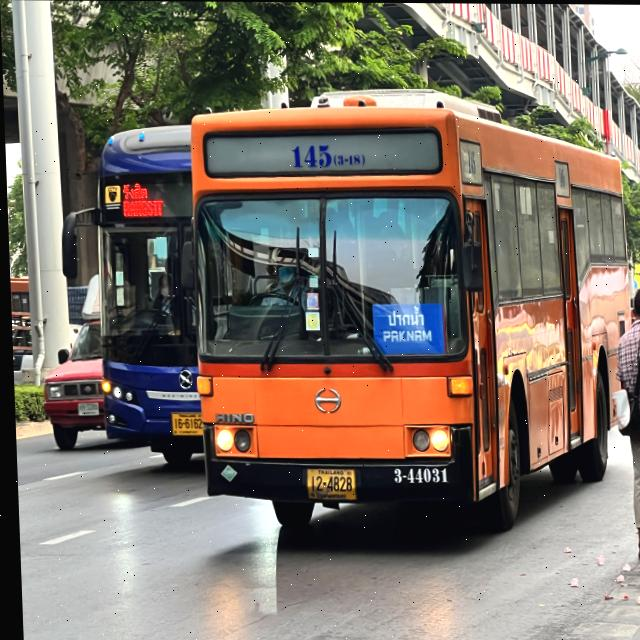BMTA-bus: (169, 76, 639, 538)
Bus Line Number: (285, 140, 366, 171)
Bus Side Number: (384, 465, 448, 488)
Destination Sign: (371, 306, 444, 358), (120, 181, 168, 221)
TSB-Bus: (87, 119, 203, 460)
